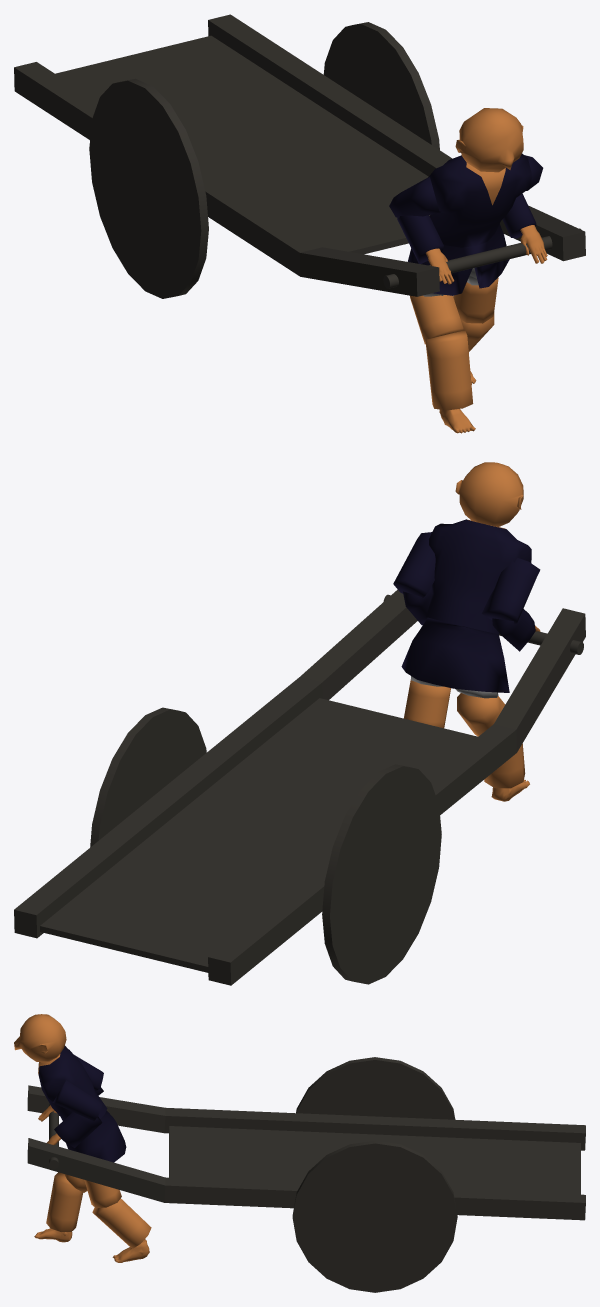
The model's file is Obstacles_Low_000.obj.
The picture shows the model from 3 angles, top to bottom: view 1: azimuth 30°, elevation 25°; view 2: azimuth 150°, elevation 25°; view 3: azimuth 270°, elevation 25°; orthographic projection. The views are drawn at different scales.
Visible parts, largest first — view 1: pCube1, pCube1 pCylinder2 polySurface1, pCube1 pCube3, Karateka_Hip Karateka_Body, Karateka_Hip Karateka_Body Karateka_Head, Karateka_Hip Karateka_RightUpLeg Karateka_RightLeg, Karateka_Hip, Karateka_Hip Karateka_Body Karateka_RightArm Karateka_RightForeA, Karateka_Hip Karateka_RightUpLeg, Karateka_Hip Karateka_Body Karateka_LeftArm Karateka_LeftForeArm, pCube1 pCube3 pCylinder3, Karateka_Hip Karateka_LeftUpLeg (+3 smaller); view 2: pCube1, pCube1 pCube3, pCube1 pCylinder2 polySurface1, Karateka_Hip Karateka_Body, Karateka_Hip, Karateka_Hip Karateka_Body Karateka_Head, Karateka_Hip Karateka_Body Karateka_RightArm, Karateka_Hip Karateka_Body Karateka_LeftArm, Karateka_Hip Karateka_LeftUpLeg, Karateka_Hip Karateka_RightUpLeg, Karateka_Hip Karateka_Body Karateka_RightArm Karateka_RightForeA, Karateka_Hip Karateka_RightUpLeg Karateka_RightLeg; view 3: pCube1 pCylinder2 polySurface1, pCube1 pCube3, pCube1, Karateka_Hip Karateka_Body, Karateka_Hip Karateka_Body Karateka_Head, Karateka_Hip Karateka_RightUpLeg Karateka_RightLeg, Karateka_Hip, Karateka_Hip Karateka_LeftUpLeg Karateka_LeftLeg, Karateka_Hip Karateka_Body Karateka_LeftArm, Karateka_Hip Karateka_Body Karateka_LeftArm Karateka_LeftForeArm, Karateka_Hip Karateka_LeftUpLeg, Karateka_Hip Karateka_LeftUpLeg Karateka_LeftLeg Karateka_LeftFo.
Boxes of the visible parts, <box> form: pCube1: <box>55,35,429,254</box>; pCube1 pCylinder2 polySurface1: <box>89,22,439,298</box>; pCube1 pCube3: <box>14,14,585,296</box>; Karateka_Hip Karateka_Body: <box>428,153,531,247</box>; Karateka_Hip Karateka_Body Karateka_Head: <box>455,108,523,172</box>; Karateka_Hip Karateka_RightUpLeg Karateka_RightLeg: <box>425,330,473,410</box>; Karateka_Hip: <box>407,224,509,296</box>; Karateka_Hip Karateka_Body Karateka_RightArm Karateka_RightForeA: <box>397,215,454,284</box>; Karateka_Hip Karateka_RightUpLeg: <box>410,295,463,344</box>; Karateka_Hip Karateka_Body Karateka_LeftArm Karateka_LeftForeArm: <box>502,193,547,263</box>; pCube1 pCube3 pCylinder3: <box>383,228,581,288</box>; Karateka_Hip Karateka_LeftUpLeg: <box>453,277,498,323</box>; pCube1: <box>40,698,477,972</box>; pCube1 pCube3: <box>14,589,585,985</box>; pCube1 pCylinder2 polySurface1: <box>90,707,441,984</box>; Karateka_Hip Karateka_Body: <box>426,519,531,634</box>; Karateka_Hip: <box>401,617,509,698</box>; Karateka_Hip Karateka_Body Karateka_Head: <box>455,462,523,526</box>; Karateka_Hip Karateka_Body Karateka_RightArm: <box>482,558,540,623</box>; Karateka_Hip Karateka_Body Karateka_LeftArm: <box>393,532,435,598</box>; Karateka_Hip Karateka_LeftUpLeg: <box>403,679,450,728</box>; Karateka_Hip Karateka_RightUpLeg: <box>457,693,505,736</box>; Karateka_Hip Karateka_Body Karateka_RightArm Karateka_RightForeA: <box>492,609,540,651</box>; Karateka_Hip Karateka_RightUpLeg Karateka_RightLeg: <box>484,743,525,788</box>; pCube1 pCylinder2 polySurface1: <box>292,1057,457,1292</box>; pCube1 pCube3: <box>27,1085,585,1220</box>; pCube1: <box>169,1126,580,1194</box>; Karateka_Hip Karateka_Body: <box>38,1046,107,1120</box>; Karateka_Hip Karateka_Body Karateka_Head: <box>14,1014,66,1062</box>; Karateka_Hip Karateka_RightUpLeg Karateka_RightLeg: <box>46,1172,83,1231</box>; Karateka_Hip: <box>66,1110,126,1162</box>; Karateka_Hip Karateka_LeftUpLeg Karateka_LeftLeg: <box>92,1198,151,1248</box>; Karateka_Hip Karateka_Body Karateka_LeftArm: <box>52,1080,102,1120</box>; Karateka_Hip Karateka_Body Karateka_LeftArm Karateka_LeftForeArm: <box>47,1112,102,1147</box>; Karateka_Hip Karateka_LeftUpLeg: <box>84,1180,121,1208</box>; Karateka_Hip Karateka_LeftUpLeg Karateka_LeftLeg Karateka_LeftFo: <box>112,1239,149,1262</box>.
Size of the model in its own units: 124 by 157 by 347.
